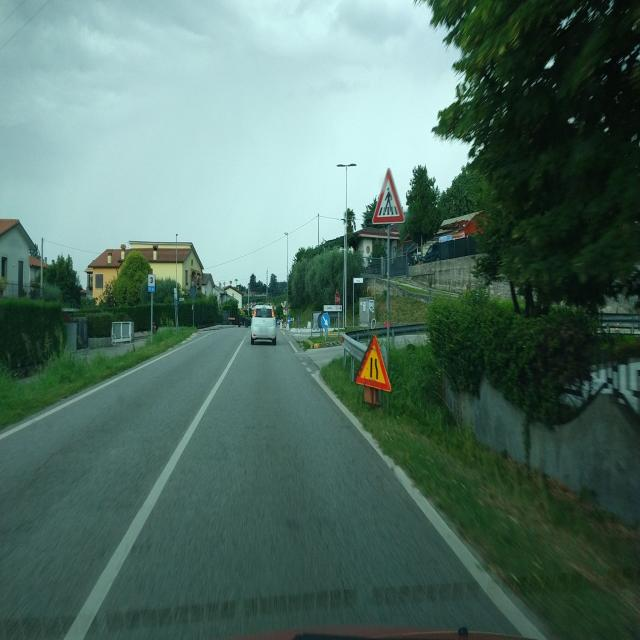car: (250, 304, 276, 345)
